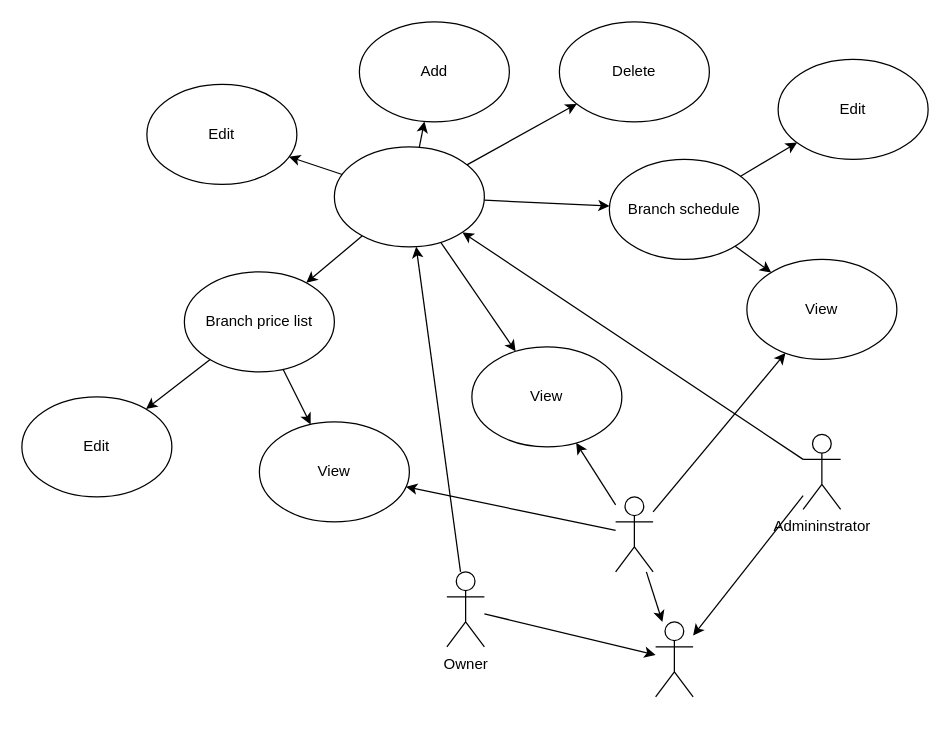
Some shapes in this 950 by 745 pixel diagram are drawn without their labels. The shapes that lost their labels are listed below. From the top down, each one's centre as x and y in pixels, then its label:
the point at 408,196: Branches
the point at 633,534: Doctor
the point at 673,659: Clinic user
